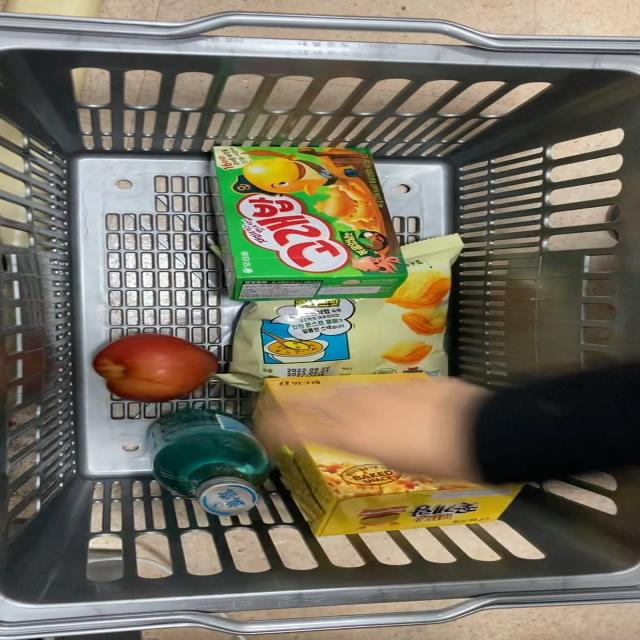ggobukchip: (235, 296, 483, 370)
goraebob: (200, 140, 408, 300)
jinro: (143, 414, 266, 513)
minicrab: (279, 441, 555, 535)
plum: (87, 324, 222, 408)
